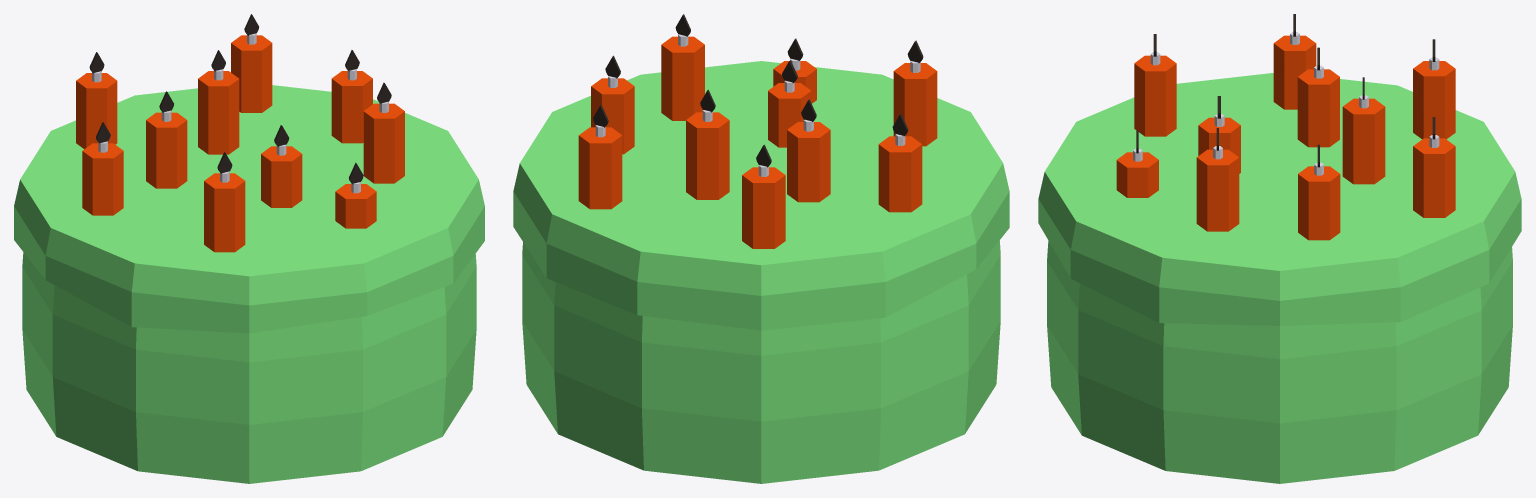
The model's file is Cake.fbx.
The picture shows the model from 3 angles, left to right: view 1: azimuth 30°, elevation 25°; view 2: azimuth 150°, elevation 25°; view 3: azimuth 270°, elevation 25°; orthographic projection. The views are drawn at different scales.
Parts seen in each view (by area): view 1: Cake; view 2: Cake; view 3: Cake.
Part boxes in pixels (x1,y1,x2,y2): Cake: [14, 14, 484, 483]; Cake: [513, 14, 1009, 483]; Cake: [1038, 14, 1521, 483].
Bounding box in the file's own units: 39.02 × 28.08 × 39.02.
